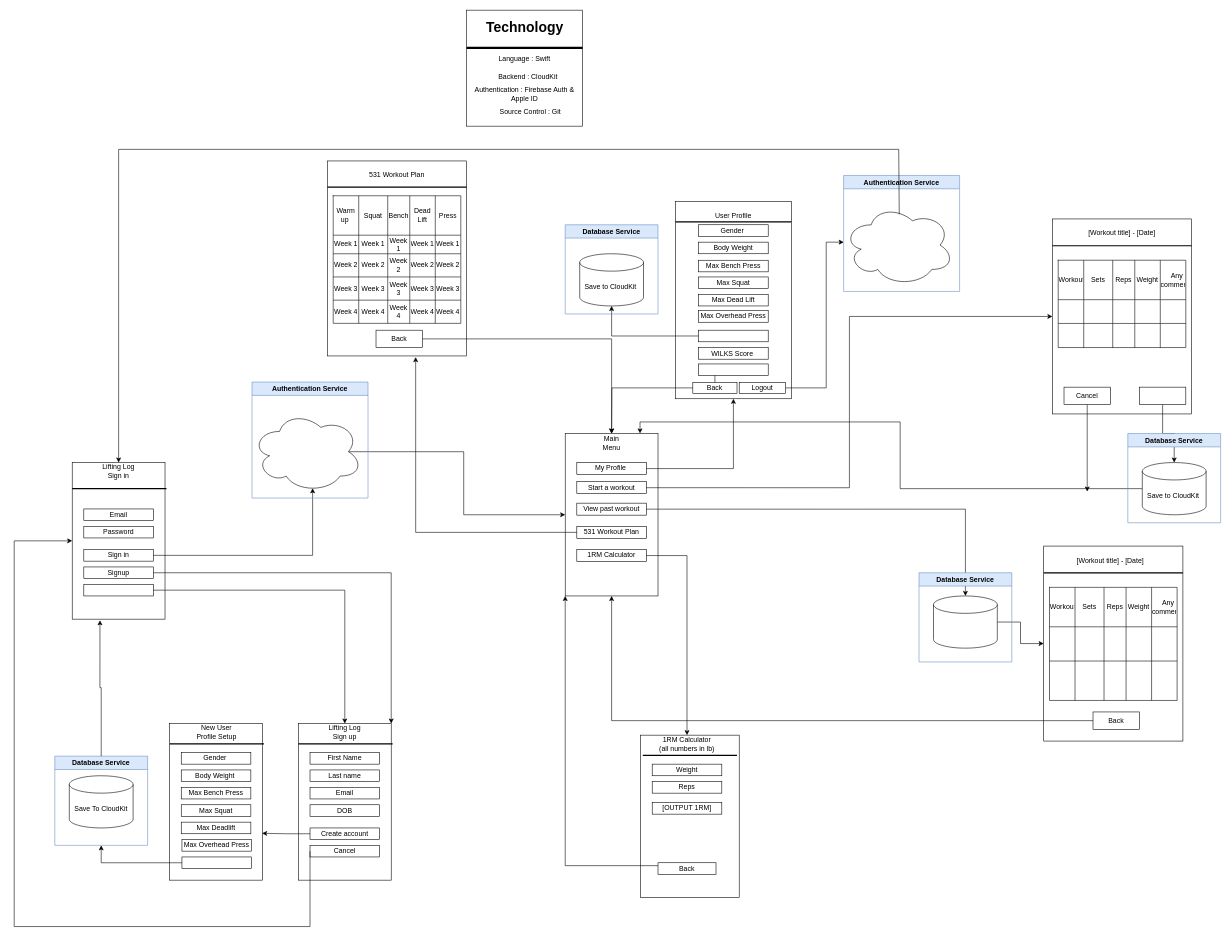
Image size: 1231x941. Some labels were removed from this diagram. The centre of each missing label's shape, as x and y in pixels:
Apple login: [118,590]
Authenticate user with Firebase Auth or Apple ID: [306,451]
Create Profile: [216,862]
De-Authenticate user with Firebase Auth or Apple ID: [898,245]
Finish Workout: [1162,396]
Load from CloudKit: [965,621]
Total Lifted Weight: [733,369]
Update Profile: [733,336]
